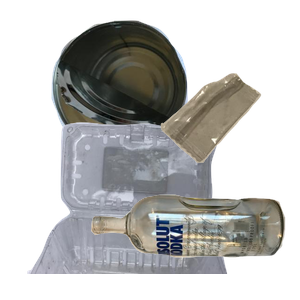glass: (88, 192, 300, 300)
metal: (49, 18, 229, 164)
plastic: (25, 120, 245, 300)
trash: (158, 71, 300, 227)
